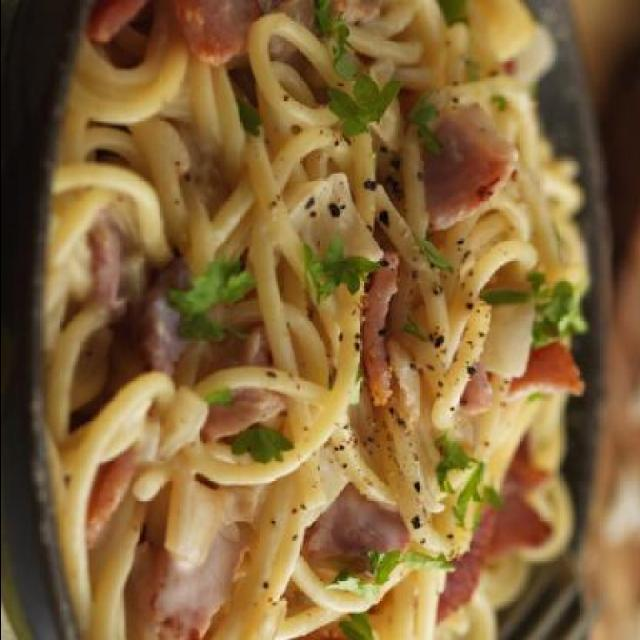Pasta with carbonara sauce: (39, 5, 592, 632)
